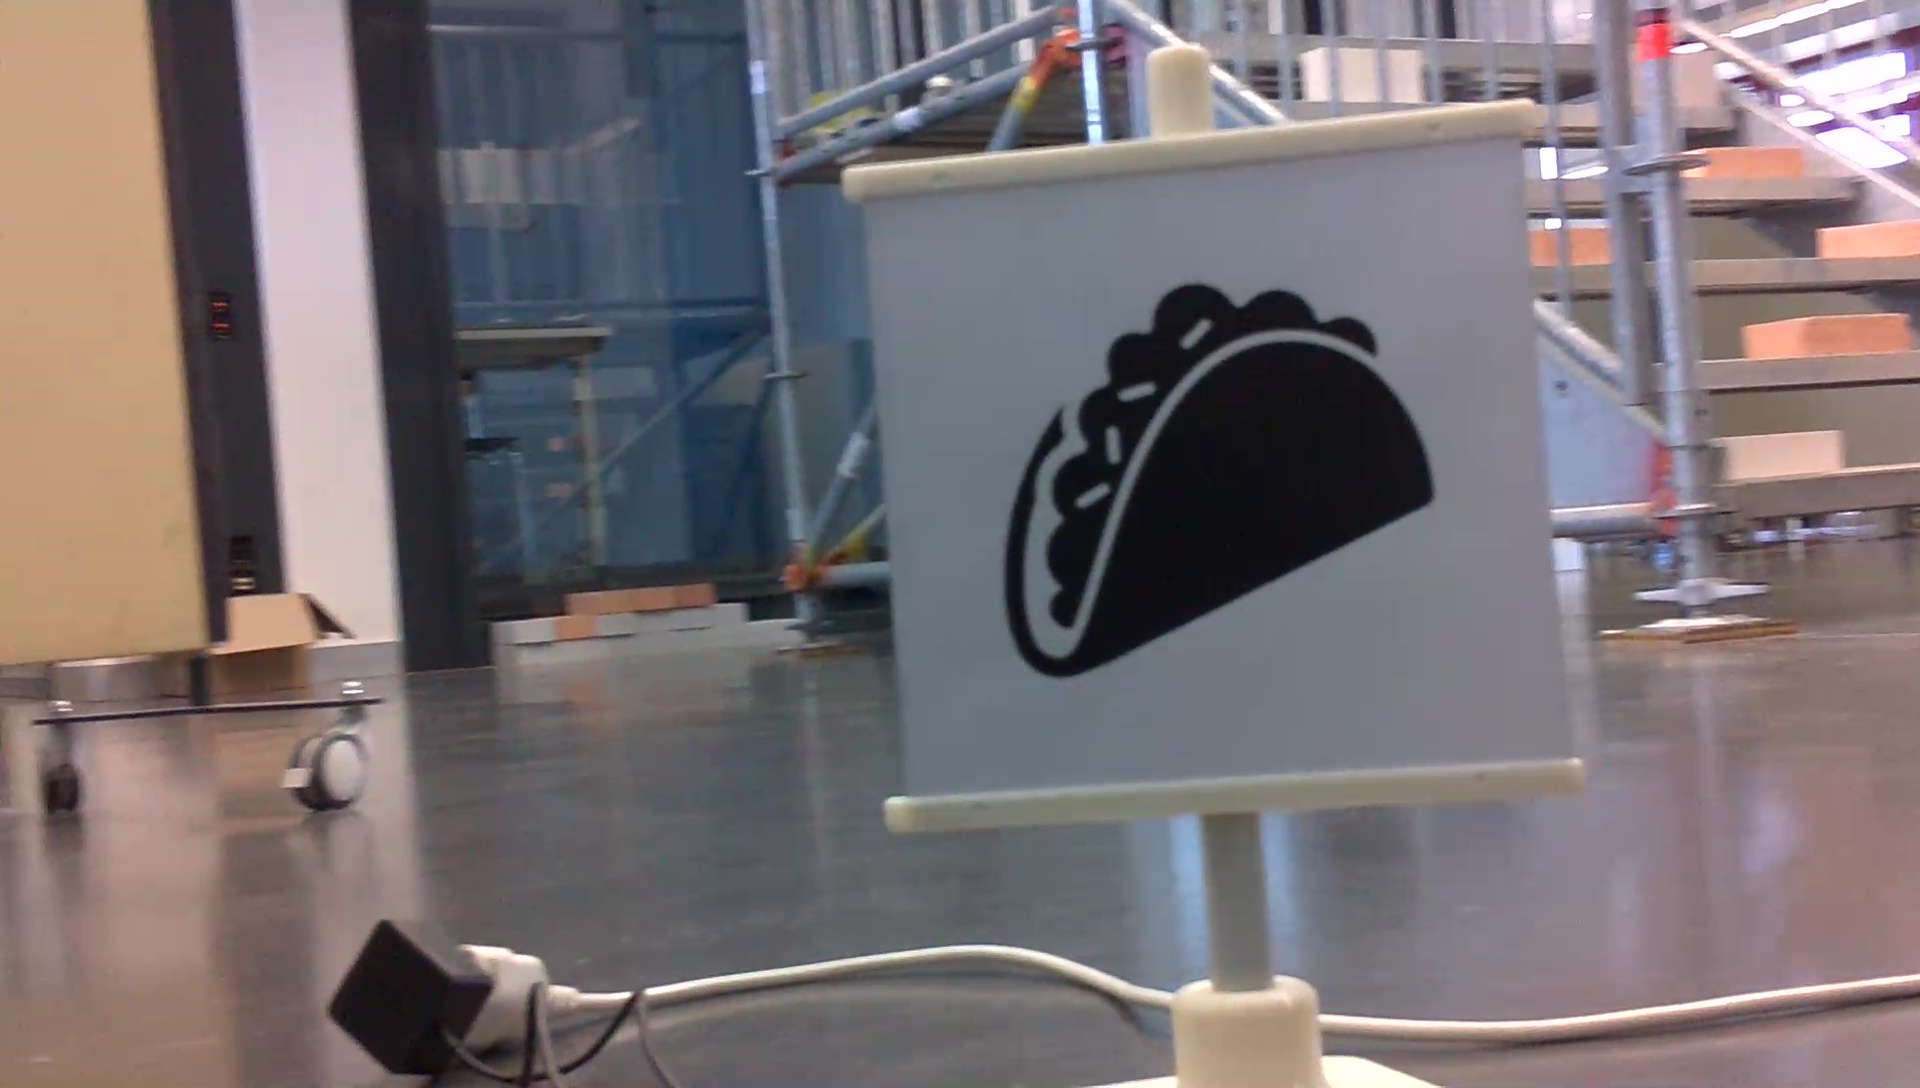brick: (1745, 317, 1905, 355), (1727, 433, 1837, 477), (1822, 218, 1920, 255), (1708, 148, 1803, 179)
taco: (990, 273, 1451, 690)
